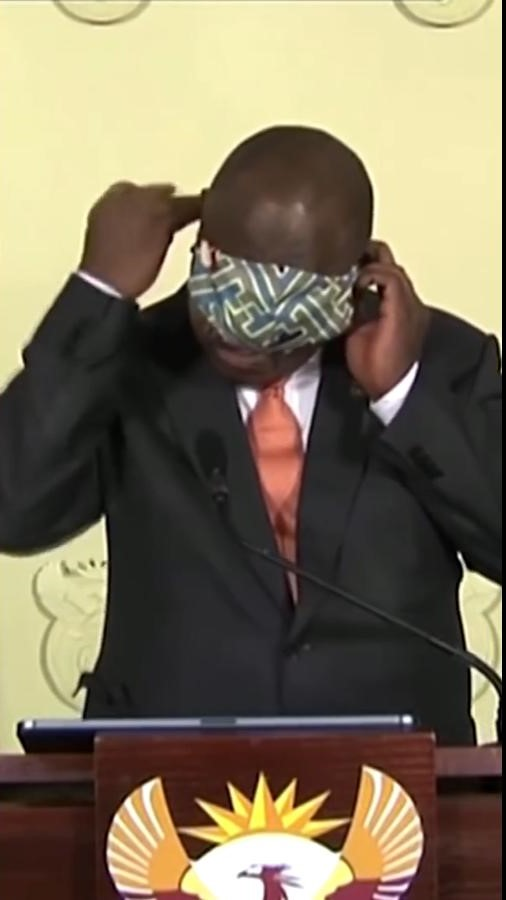with_incorrect_mask: (204, 238, 316, 360)
